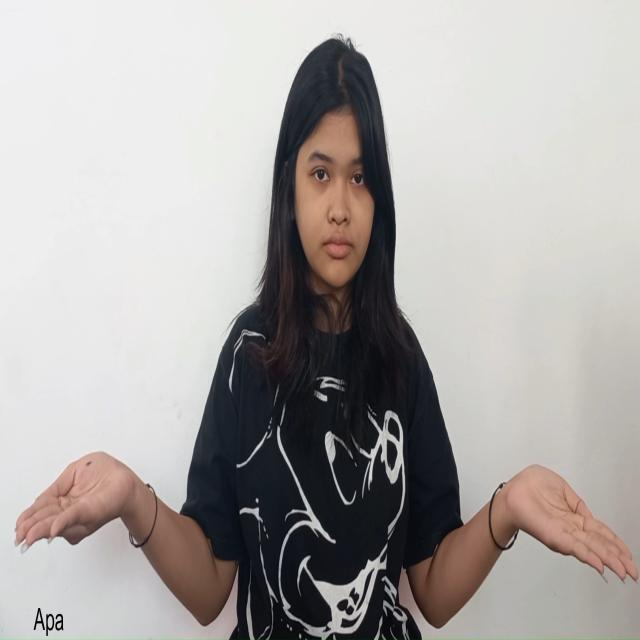Apa -BISINDO-: (12, 448, 640, 590)
